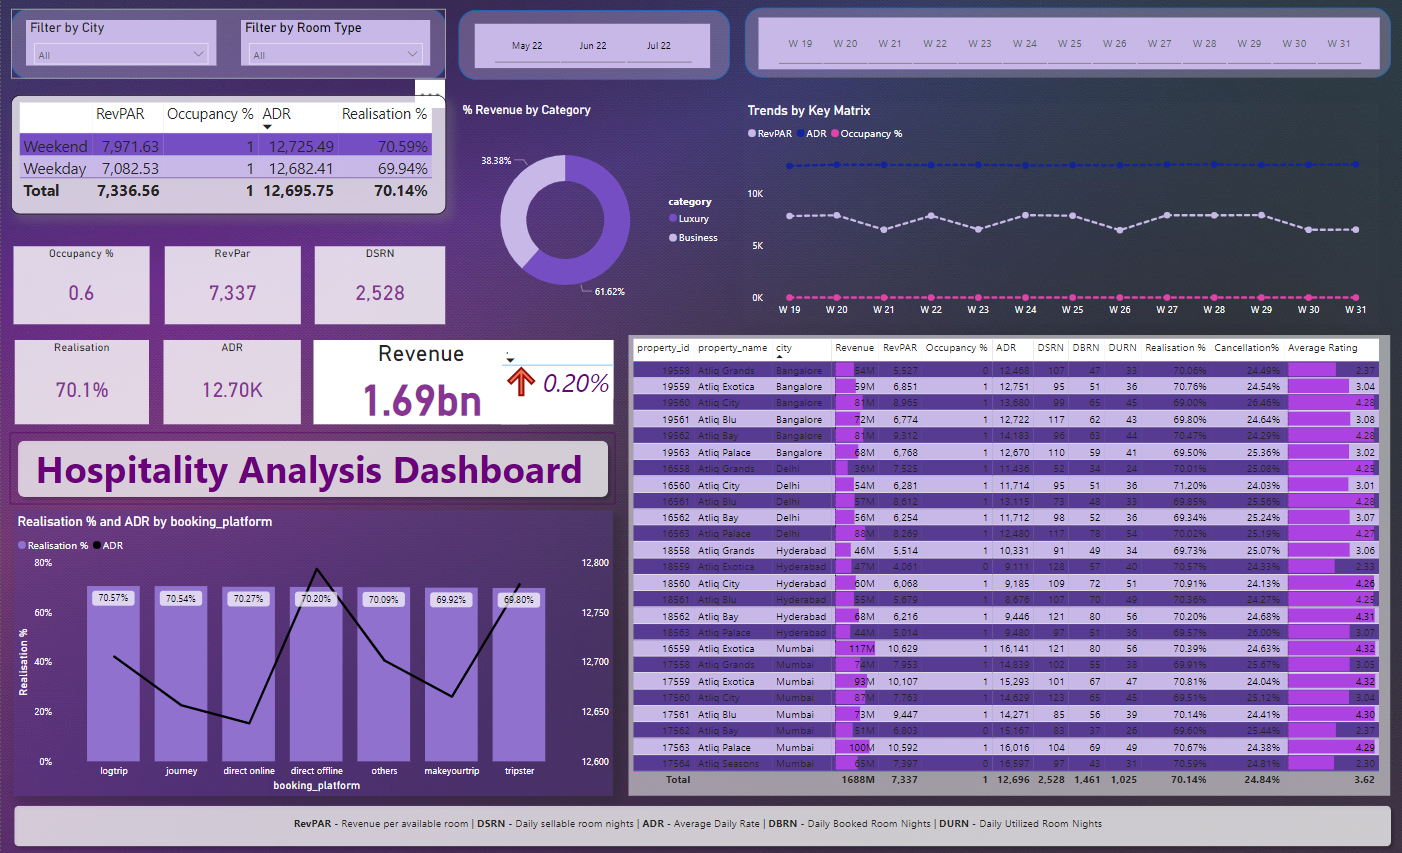

The page's visual inventory and layout, read from the dashboard file:
{"tool":"powerbi","page":{"name":"Page 1","canvas":[1800,1100],"ordinal":0},"visuals":[{"type":"tableEx","fields":{"Values":["dim_hotels.property_id","dim_hotels.property_name","dim_hotels.city","key_measures.Revenue","key_measures.RevPAR","key_measures.Occupancy %","key_measures.ADR","key_measures.DSRN","key_measures.DBRN","key_measures.DURN","key_measures.Realisation %","key_measures.Cancellation%"]},"box":[804,436,976,590],"z":0},{"type":"donutChart","title":"% Revenue by Category","fields":{"Category":["dim_hotels.category"],"Y":["key_measures.Revenue"]},"box":[586,138,348,284],"z":1000},{"type":"shape","box":[952.5,16.8,828,90],"z":2000,"group":"g2"},{"type":"lineChart","title":"Trends by Key Matrix","fields":{"Category":["dim_date.mmm yy.Variation.Date Hierarchy.Month","dim_date.week no"],"Y":["key_measures.RevPAR","key_measures.ADR","key_measures.Occupancy %"]},"box":[952,138,814,284],"z":2000},{"type":"shape","box":[586,20,347.8,89.5],"z":3000,"group":"g1"},{"type":"lineStackedColumnComboChart","fields":{"Category":["fact_bookings.booking_platform"],"Y":["key_measures.Realisation %"],"Y2":["key_measures.ADR"]},"box":[16,660,768,366],"z":3000},{"type":"shape","box":[12.5,17.5,557.5,90],"z":4000},{"type":"tableEx","fields":{"Values":["dim_date.day_type","key_measures.RevPAR","key_measures.Occupancy %","key_measures.ADR","key_measures.Realisation %"]},"box":[12.5,127.5,557.5,152.5],"z":5000},{"type":"slicer","fields":{"Values":["dim_date.mmm yy"]},"box":[606.7,37.2,301.3,56.8],"z":6000,"group":"g1"},{"type":"card","title":"ADR","fields":{"Values":["key_measures.ADR"]},"box":[208,442,176,108],"z":6000},{"type":"slicer","fields":{"Values":["dim_date.week no"]},"box":[970,30,796,66],"z":7000,"group":"g2"},{"type":"card","title":"Realisation","fields":{"Values":["key_measures.Realisation %"]},"box":[18,442,172,108],"z":7000},{"type":"card","title":"RevPar","fields":{"Values":["key_measures.RevPAR"]},"box":[210,322,174,100],"z":8000},{"type":"card","title":"DSRN","fields":{"Values":["key_measures.DSRN"]},"box":[402.5,322.5,167.5,100],"z":9000},{"type":"card","title":"Occupancy %","fields":{"Values":["key_measures.Occupancy %"]},"box":[16,322,174,100],"z":10000},{"type":"card","title":"Revenue","fields":{"Values":["key_measures.Revenue"]},"box":[400,442,276,108],"z":11000},{"type":"group","id":"g1","title":"Group 2","box":[586,20,348,88],"z":12000},{"type":"tableEx","fields":{"Values":["key_measures.Revenue WoW change %"]},"box":[640,442,144,108],"z":13000},{"type":"shape","box":[8,1030,1782,70],"z":14000},{"type":"shape","box":[12,560,776,92],"z":15000},{"type":"textbox","box":[345,1048.2,1093.6,39],"z":16000},{"type":"textbox","box":[32,568,726,84],"z":17000},{"type":"group","id":"g2","title":"Group 1","box":[952.5,16.8,828,90],"z":18000},{"type":"slicer","title":"Filter by City","fields":{"Values":["dim_hotels.city"]},"box":[32.5,32.5,243.8,58.8],"z":19000},{"type":"slicer","title":"Filter by Room Type","fields":{"Values":["dim_rooms.room_class"]},"box":[307.5,32.5,242.5,58.8],"z":20000}]}

Visuals, with their boxes in screenshot pixels (x1, y1, x2, y2), scaled from the page's 1800x1100 canvas onto the 1402x853 screenshot:
tableEx - dim_hotels.property_id x dim_hotels.property_name: x1=626 y1=338 x2=1386 y2=796
"% Revenue by Category" donutChart: x1=456 y1=107 x2=727 y2=327
shape: x1=742 y1=13 x2=1387 y2=83
"Trends by Key Matrix" lineChart: x1=742 y1=107 x2=1376 y2=327
shape: x1=456 y1=16 x2=727 y2=85
lineStackedColumnComboChart - fact_bookings.booking_platform x key_measures.Realisation %: x1=12 y1=512 x2=611 y2=796
shape: x1=10 y1=14 x2=444 y2=83
tableEx - dim_date.day_type x key_measures.RevPAR: x1=10 y1=99 x2=444 y2=217
slicer - dim_date.mmm yy: x1=473 y1=29 x2=707 y2=73
"ADR" card: x1=162 y1=343 x2=299 y2=427
slicer - dim_date.week no: x1=756 y1=23 x2=1376 y2=74
"Realisation" card: x1=14 y1=343 x2=148 y2=427
"RevPar" card: x1=164 y1=250 x2=299 y2=327
"DSRN" card: x1=314 y1=250 x2=444 y2=328
"Occupancy %" card: x1=12 y1=250 x2=148 y2=327
"Revenue" card: x1=312 y1=343 x2=527 y2=427
"Group 2" group: x1=456 y1=16 x2=727 y2=84
tableEx - key_measures.Revenue WoW change %: x1=498 y1=343 x2=611 y2=427
shape: x1=6 y1=799 x2=1394 y2=852
shape: x1=9 y1=434 x2=614 y2=506
textbox: x1=269 y1=813 x2=1121 y2=843
textbox: x1=25 y1=440 x2=590 y2=506
"Group 1" group: x1=742 y1=13 x2=1387 y2=83
"Filter by City" slicer: x1=25 y1=25 x2=215 y2=71
"Filter by Room Type" slicer: x1=240 y1=25 x2=428 y2=71
